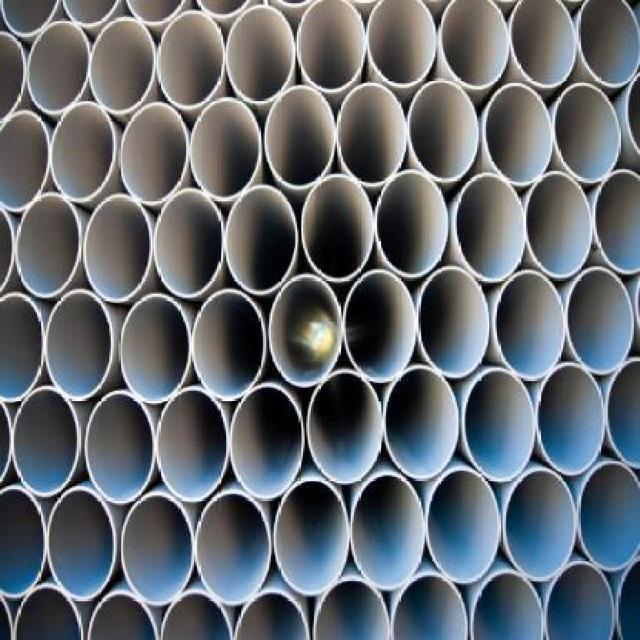pipe: (306, 370, 382, 485), (274, 480, 350, 594), (231, 383, 305, 500), (425, 468, 499, 585), (351, 474, 425, 590), (196, 491, 271, 605), (385, 366, 459, 480), (268, 275, 342, 388), (502, 469, 576, 582), (155, 388, 228, 502), (417, 265, 490, 378), (343, 269, 416, 382), (120, 492, 193, 605), (192, 289, 266, 400), (463, 368, 534, 482), (376, 170, 450, 279), (225, 187, 299, 296), (536, 363, 607, 476), (48, 486, 117, 602), (118, 294, 191, 403), (454, 172, 527, 280), (85, 392, 154, 505), (302, 174, 373, 282), (189, 97, 262, 202), (496, 271, 565, 382), (45, 289, 114, 400), (336, 82, 407, 188), (154, 190, 223, 299), (83, 194, 152, 302), (12, 387, 80, 496), (566, 266, 634, 374), (409, 79, 480, 182), (119, 102, 190, 205), (265, 86, 336, 188), (525, 171, 593, 277), (485, 83, 553, 185), (15, 193, 80, 299), (227, 5, 296, 104), (157, 9, 225, 109), (295, 1, 368, 94), (578, 462, 640, 571), (90, 16, 156, 116), (554, 83, 620, 183), (51, 102, 115, 202), (366, 2, 437, 88), (440, 2, 509, 90), (28, 20, 91, 113), (511, 2, 576, 88), (2, 485, 50, 601), (545, 562, 616, 639), (578, 2, 640, 88), (391, 574, 470, 639), (471, 571, 544, 639), (2, 111, 51, 211), (594, 168, 639, 276), (313, 577, 391, 639), (2, 293, 45, 402), (12, 582, 83, 639), (605, 356, 639, 470), (232, 590, 311, 639), (158, 591, 234, 639), (88, 591, 161, 639)
